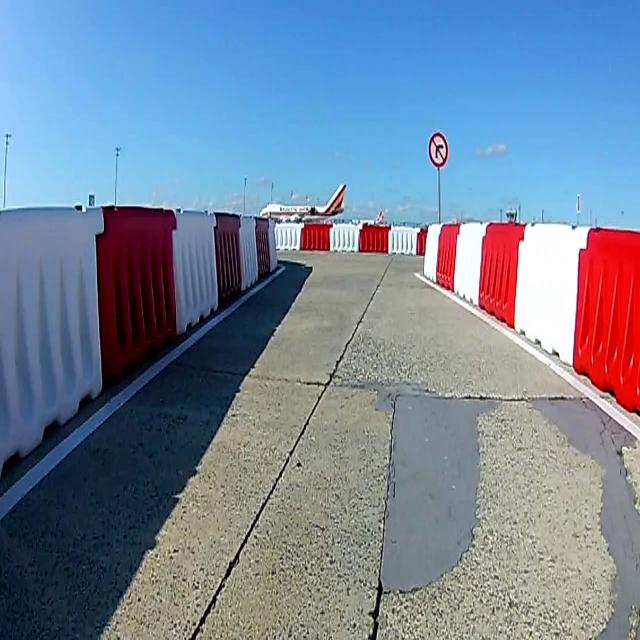sagadonulmez: (429, 133, 448, 167)
